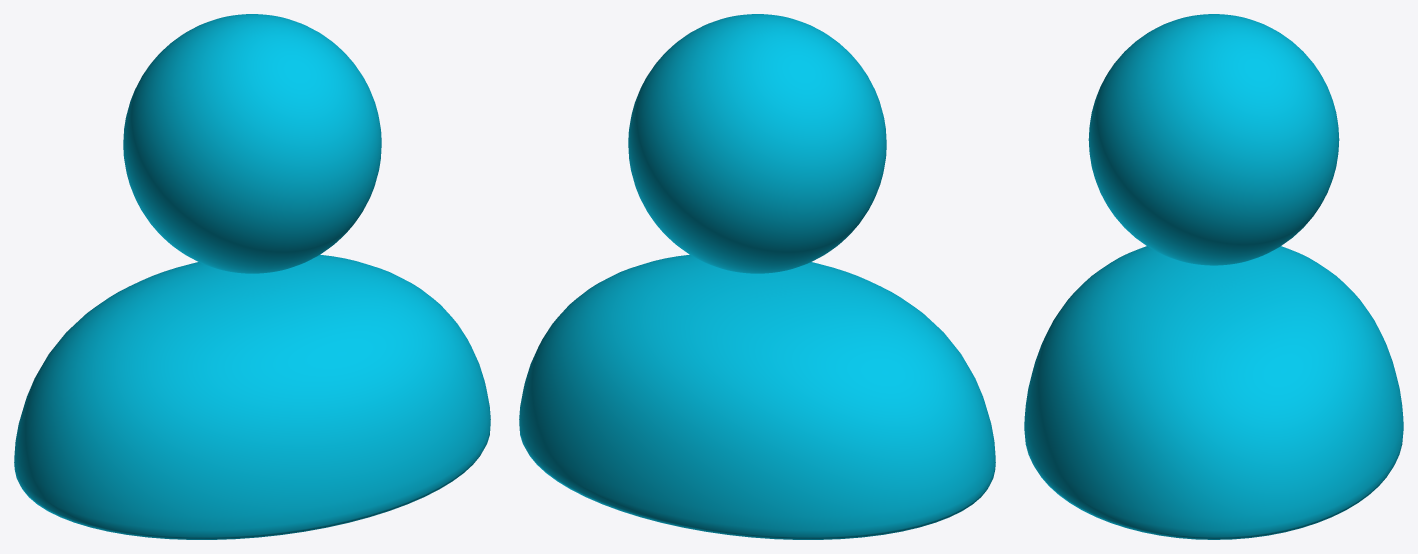
The model's file is Contact.fbx.
3 renders of one model, left to right at view 1: azimuth 30°, elevation 25°; view 2: azimuth 150°, elevation 25°; view 3: azimuth 270°, elevation 25°, orthographic. The views are drawn at different scales.
Visible parts, largest first — view 1: Contact; view 2: Contact; view 3: Contact.
Part boxes in pixels (x1=…): Contact: x1=14, y1=14, x2=490, y2=539; Contact: x1=519, y1=14, x2=995, y2=539; Contact: x1=1024, y1=14, x2=1403, y2=539.
Size of the model in its own units: 0.9769 by 0.9244 by 0.7628.
